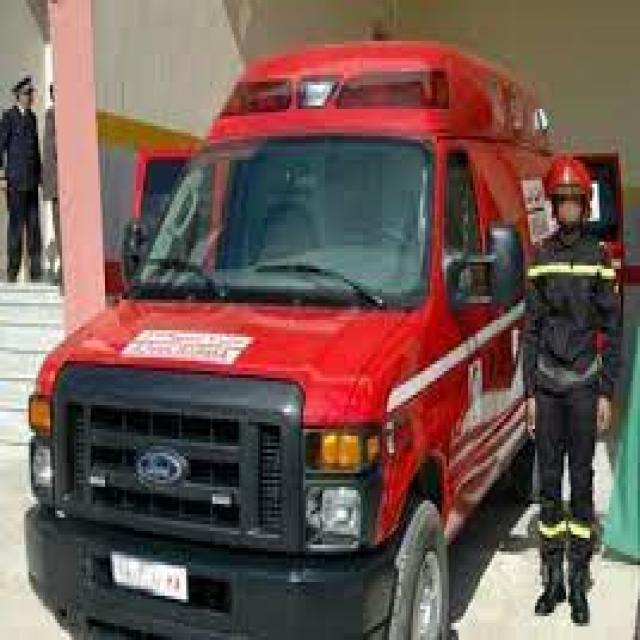ambulance: (33, 45, 558, 635)
